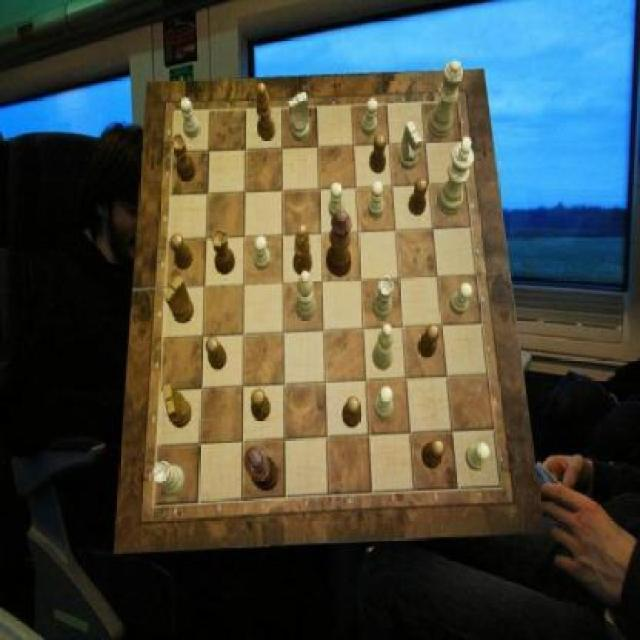bishop: (257, 83, 277, 142), (294, 225, 314, 277)
black-bishop: (245, 445, 280, 490)
black-king: (164, 277, 194, 323), (163, 384, 192, 428)
black-knight: (171, 234, 194, 270), (418, 325, 441, 359), (408, 179, 428, 216), (206, 337, 227, 371), (423, 440, 446, 471), (369, 134, 386, 174), (251, 389, 271, 422), (342, 397, 361, 429)
black-pawn: (326, 212, 352, 278)
black-queen: (172, 134, 197, 181), (212, 229, 236, 275)
black-rook: (296, 270, 316, 322), (374, 323, 394, 369)
white-bishop: (437, 137, 474, 215)
white-king: (400, 121, 423, 170), (288, 92, 310, 142)
white-knight: (180, 97, 201, 138), (451, 282, 474, 316), (466, 443, 491, 471), (374, 386, 394, 420), (362, 98, 379, 137), (329, 182, 346, 219), (368, 180, 384, 218), (254, 235, 271, 270)
white-pawn: (428, 60, 463, 140)
white-queen: (153, 460, 184, 496), (374, 276, 394, 320)
